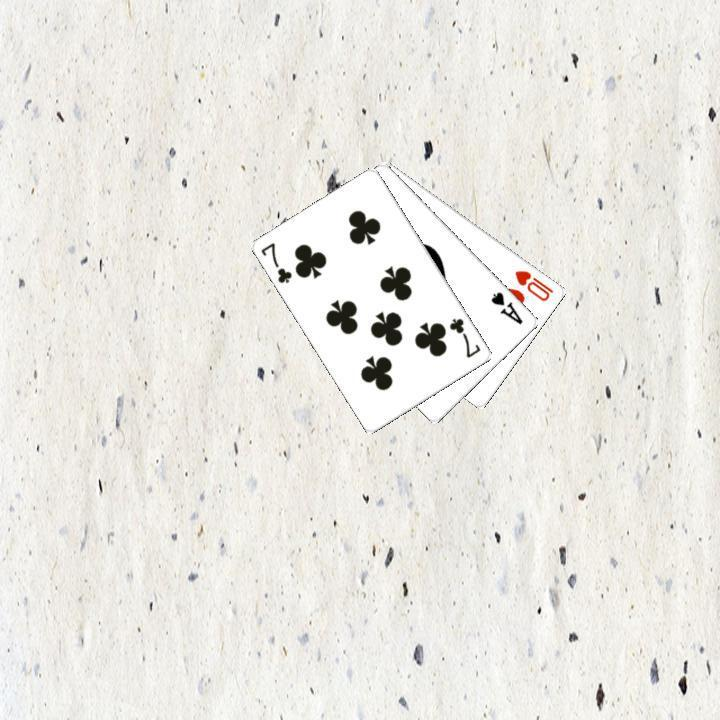10: (510, 266, 556, 303)
7: (256, 238, 294, 286), (445, 314, 483, 360)
A: (487, 287, 525, 326)
